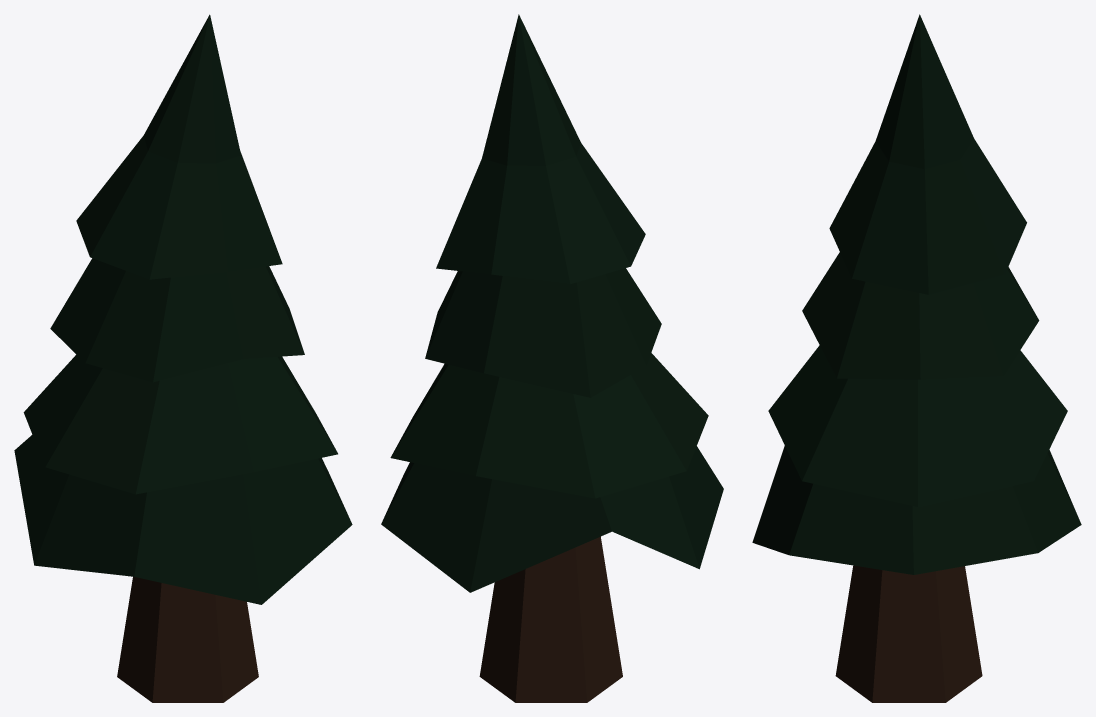
File: pinetree3.obj
The picture shows the model from 3 angles, left to right: view 1: azimuth 30°, elevation 25°; view 2: azimuth 150°, elevation 25°; view 3: azimuth 270°, elevation 25°; orthographic projection. The views are drawn at different scales.
Parts seen in each view (by area): view 1: tree_3_Cone.001; view 2: tree_3_Cone.001; view 3: tree_3_Cone.001.
Boxes of the visible parts, left/top/right/bottom form: tree_3_Cone.001: left=14, top=14, right=352, bottom=702; tree_3_Cone.001: left=381, top=14, right=723, bottom=702; tree_3_Cone.001: left=752, top=14, right=1081, bottom=702.
Bounding box in the file's own units: 3.12 × 6.64 × 2.93.
